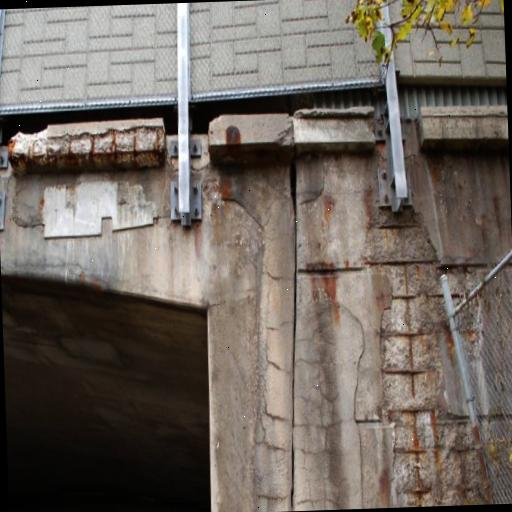spalling: (375, 212, 482, 507), (7, 127, 164, 171)
